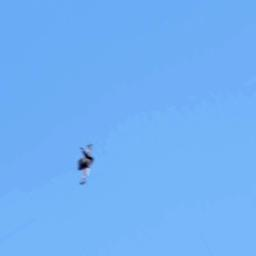Airplane: (74, 143, 94, 186)
